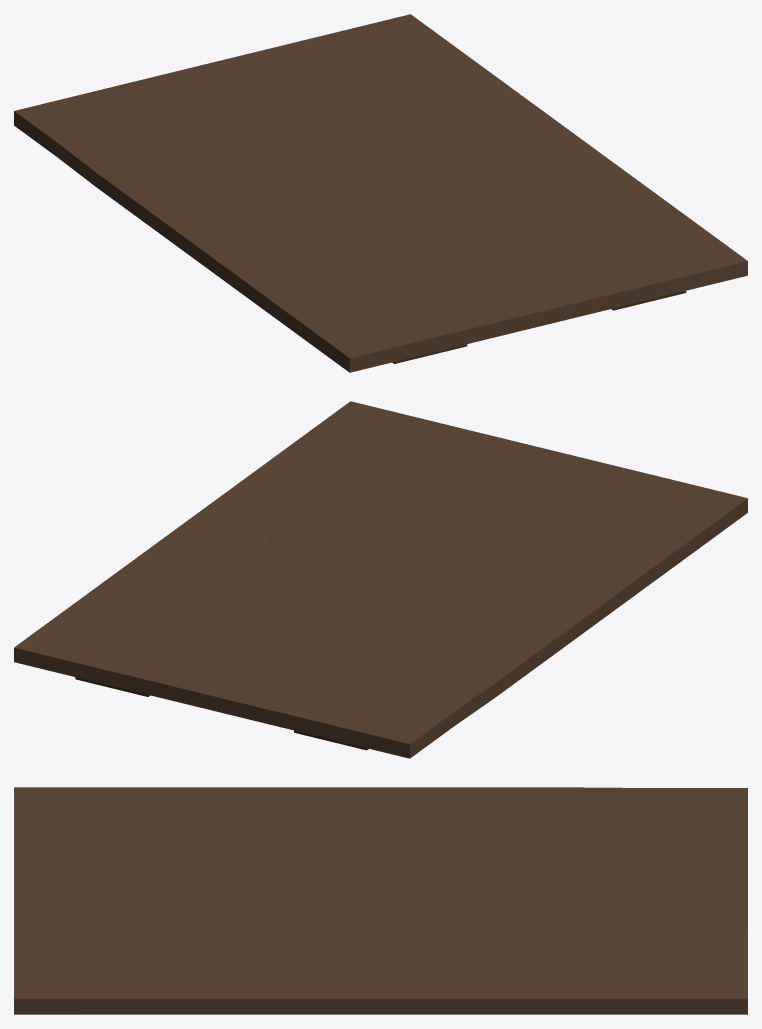
The model's file is Small Single Mid Crate Lid.fbx.
3 views of the same model, one above another, from view 1: azimuth 30°, elevation 25°; view 2: azimuth 150°, elevation 25°; view 3: azimuth 270°, elevation 25° (orthographic). The views are drawn at different scales.
Parts seen in each view (by area): view 1: Small Mid SIngle Crate Lid; view 2: Small Mid SIngle Crate Lid; view 3: Small Mid SIngle Crate Lid.
Boxes of the visible parts, left/top/right/bottom form: Small Mid SIngle Crate Lid: left=14, top=14, right=747, bottom=372; Small Mid SIngle Crate Lid: left=14, top=401, right=747, bottom=758; Small Mid SIngle Crate Lid: left=14, top=787, right=747, bottom=1014.
Bounding box in the file's own units: 8.35 × 204 × 139.
Materials: 1 (1 with a texture image).
